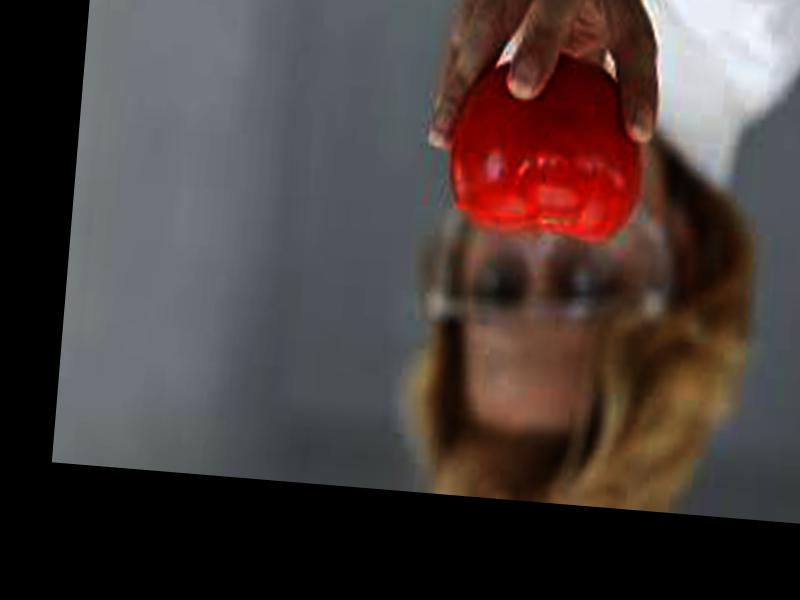Tomato: (446, 50, 654, 241)
